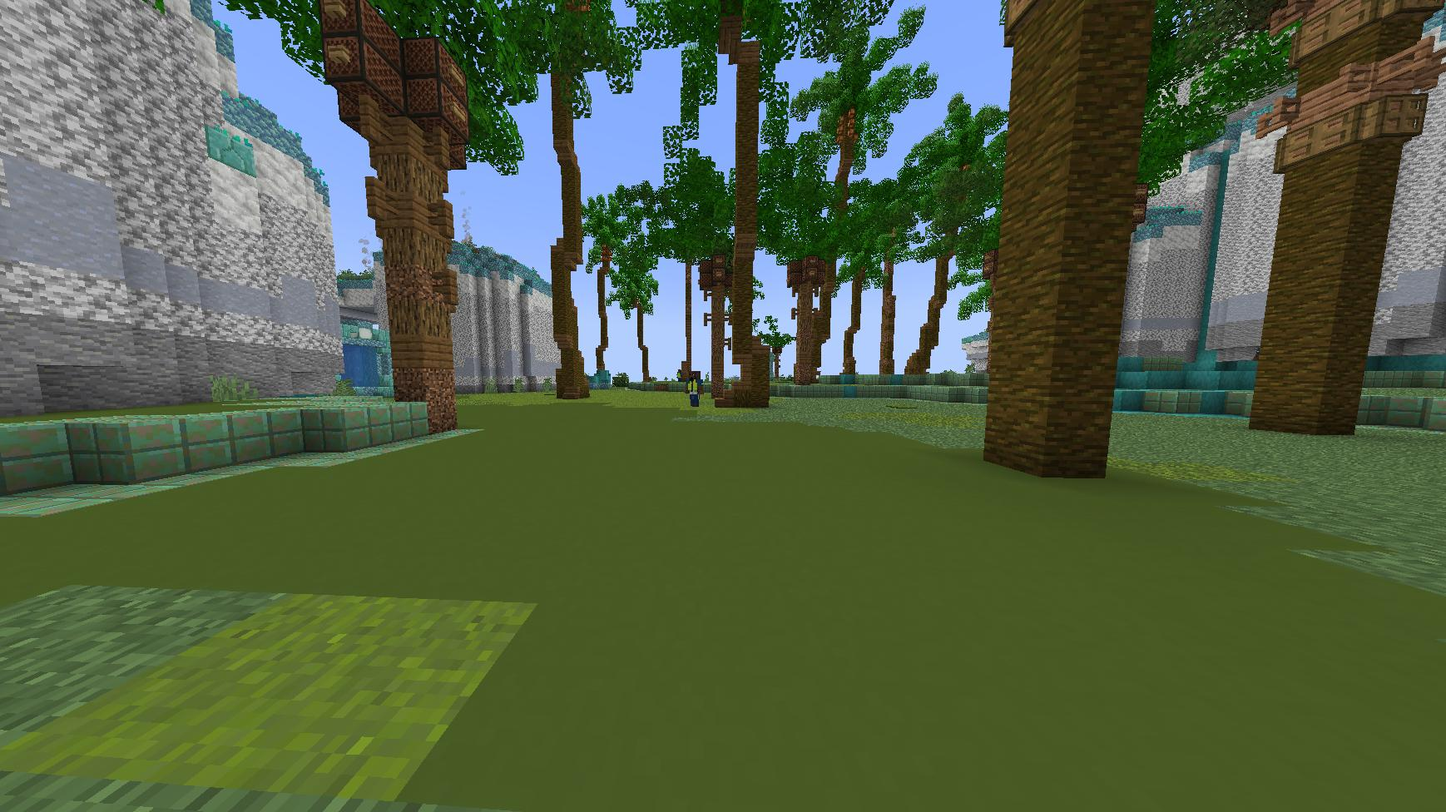Guardian: (675, 369, 713, 407)
